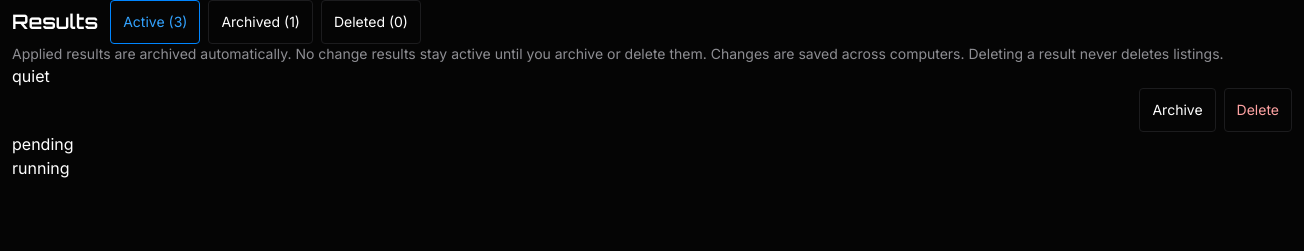
Test case: result history › keeps failed changes visible with an error
What coordinates should you click on to do the following:
click the button "Archive"
I would click on:
 (1177, 110)
Its box is [1139,88,1216,132].
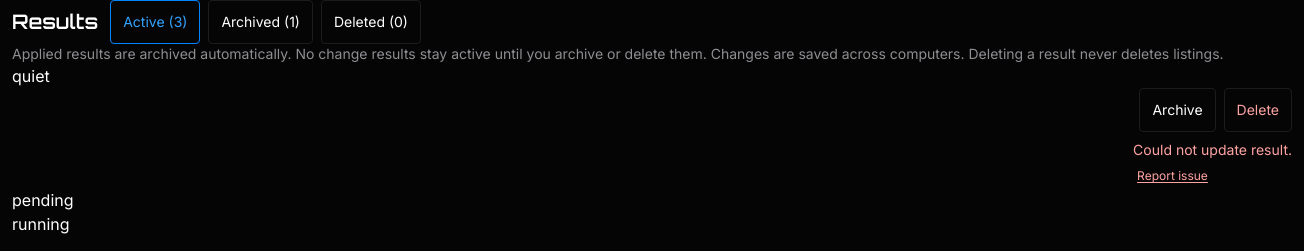
Expected: the text "quiet" is shown, [12,66,50,86]
Result: the message shows "Could not update result." at [1133,141,1292,158]
